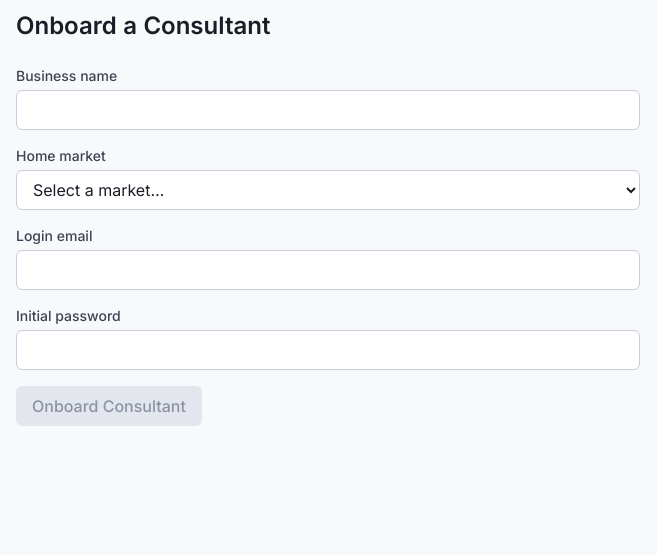
ConsultantOnboardingWizard › FES-09: renders correctly for two different markets, with genuinely different fields fetched per market, not a hardcoded map
The width and height of the screenshot is (657, 555).
Select "India" in the dropdown labelled "Home market" at (328, 190), box [16,170,640,210]
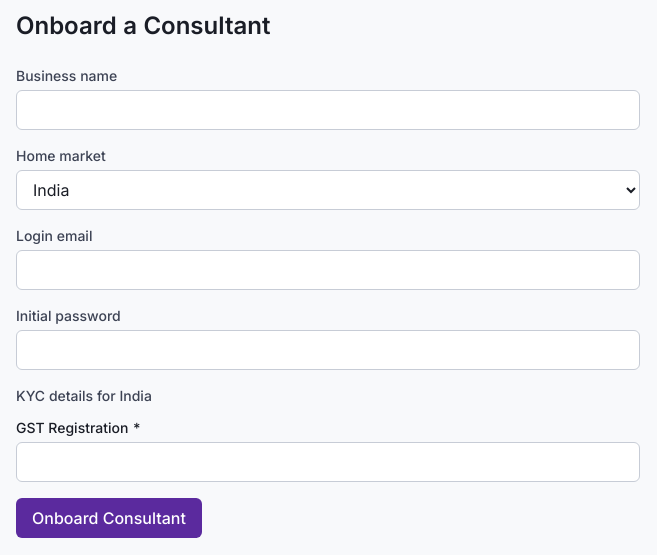
Expected: the field labelled "companies house number" is not shown
Expected: the field labelled "GST Registration *" is shown, [16,442,640,482]
Select "United Kingdom" in the dropdown labelled "Home market" at (328, 190), box [16,170,640,210]
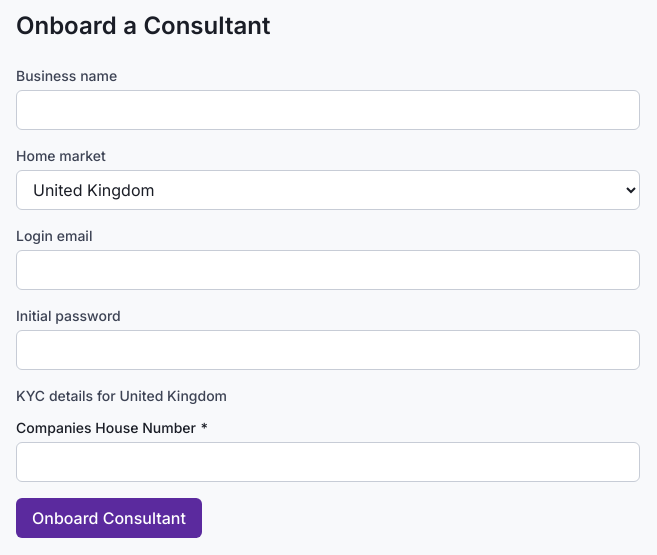
Expected: the field labelled "Companies House Number *" is shown, [16,442,640,482]
Expected: the label labelled "GST Registration" is gone
